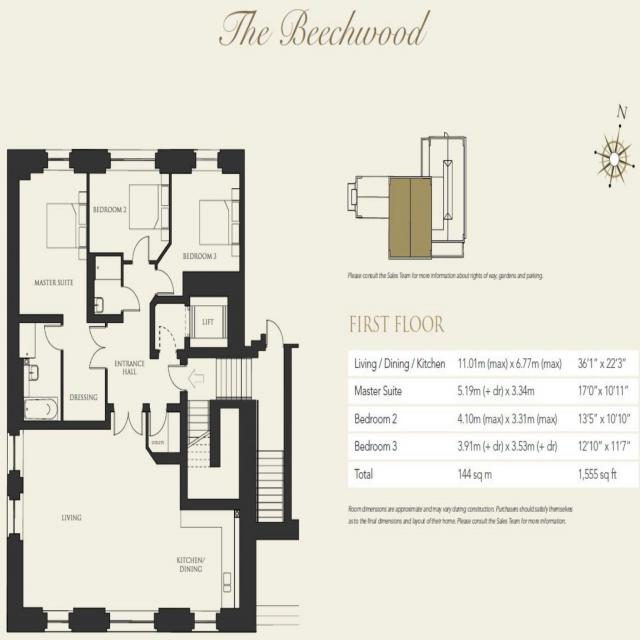DOOR: (149, 401, 168, 438), (43, 323, 65, 354), (167, 364, 189, 393), (265, 317, 284, 349), (131, 235, 150, 267), (154, 268, 175, 295)
DOUBLE DOOR: (112, 403, 144, 437)
ROOM: (6, 403, 257, 634), (6, 147, 108, 325), (154, 148, 245, 307), (86, 148, 172, 264)
WINDOW: (105, 148, 161, 175), (104, 607, 160, 634), (41, 606, 74, 635), (6, 427, 24, 480), (190, 148, 224, 176), (6, 491, 24, 543), (42, 147, 75, 174), (189, 607, 221, 634)
